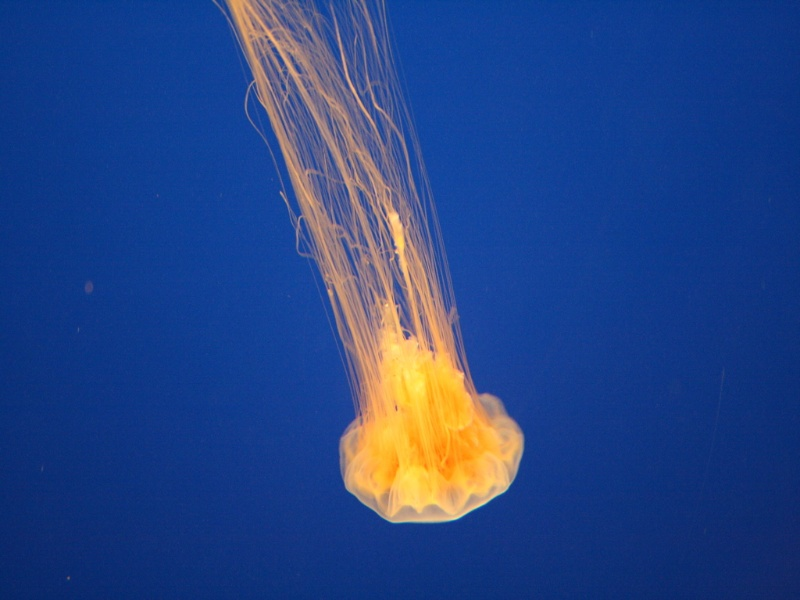Jellyfish: (188, 15, 542, 547)
